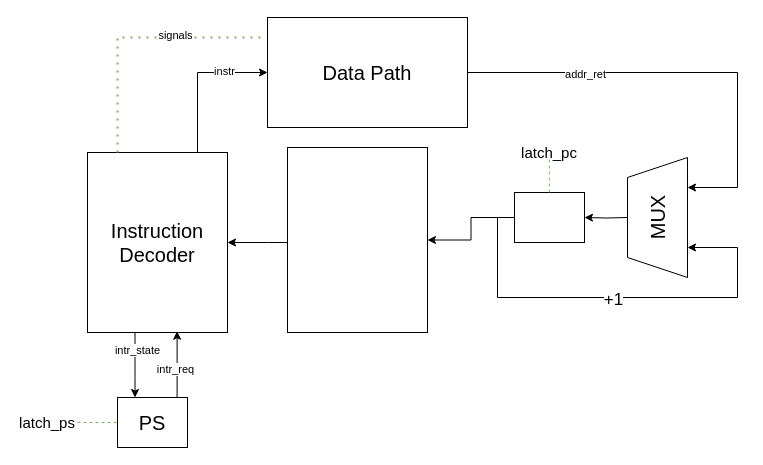
The diagram is 763 pixels wide and 465 high, and some of its shapes have lost their labels. Here are the shapes that lost their labels. From the top down, the centre of each, then its label:
At point (549, 217): "PC".
At point (357, 239): "Instruction Memory".
